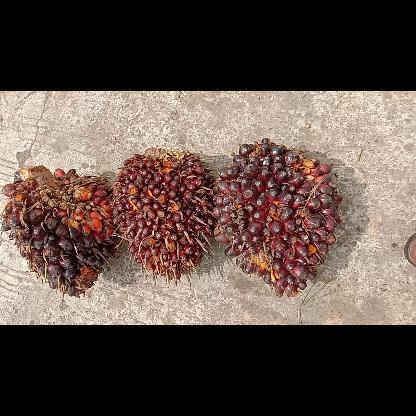Kurang masak: (218, 135, 344, 297), (115, 147, 215, 280)
TBS masak: (0, 164, 114, 302)
